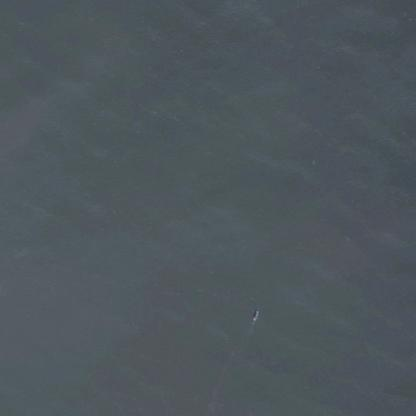ship: (248, 307, 261, 323)
